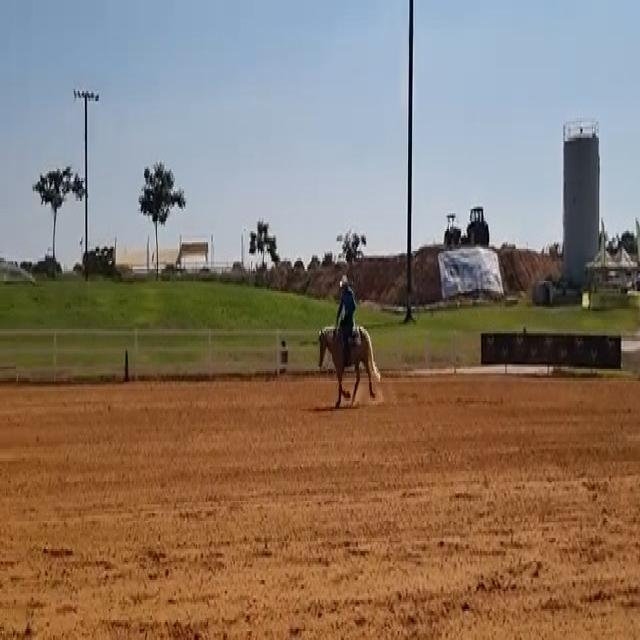horse: (315, 320, 382, 409)
